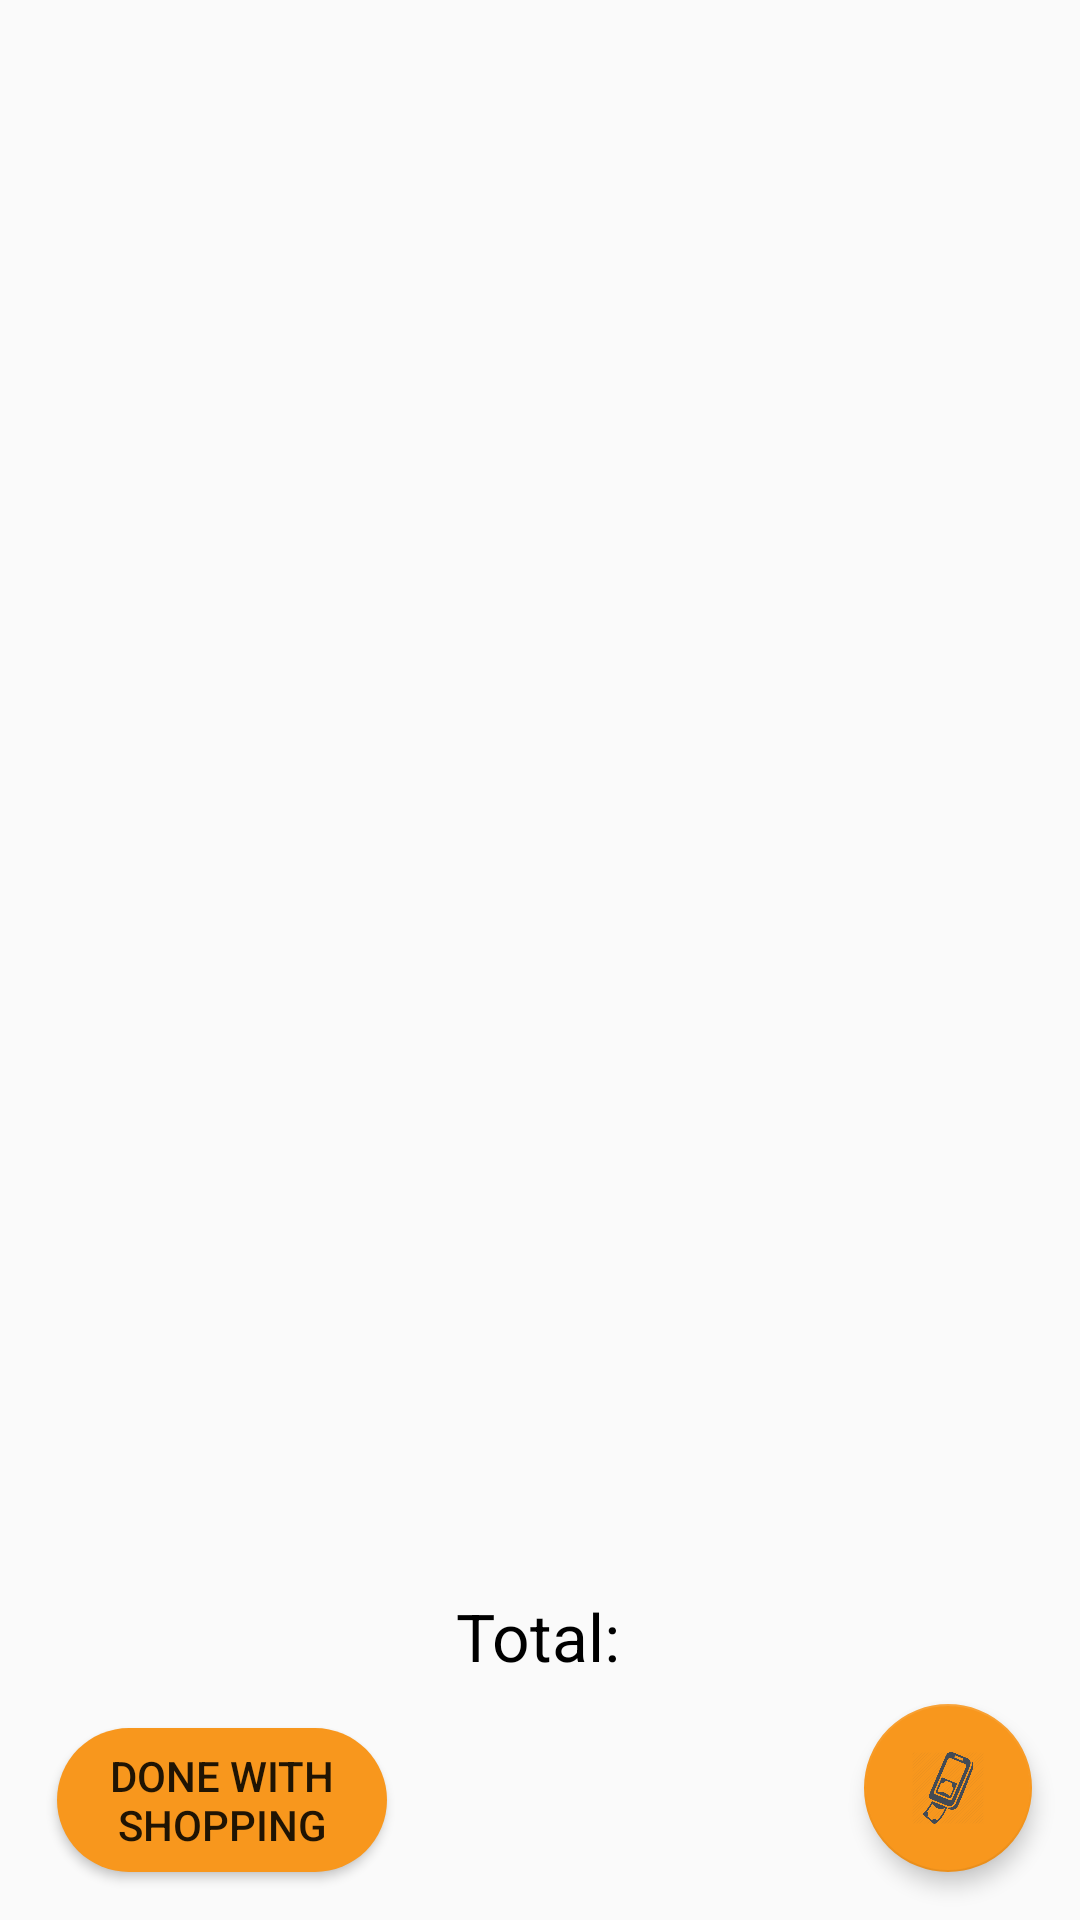

Where to tap for icons on this 1080×1920 app screen, as (x=x, y=y):
pay: (x=948, y=1788)
